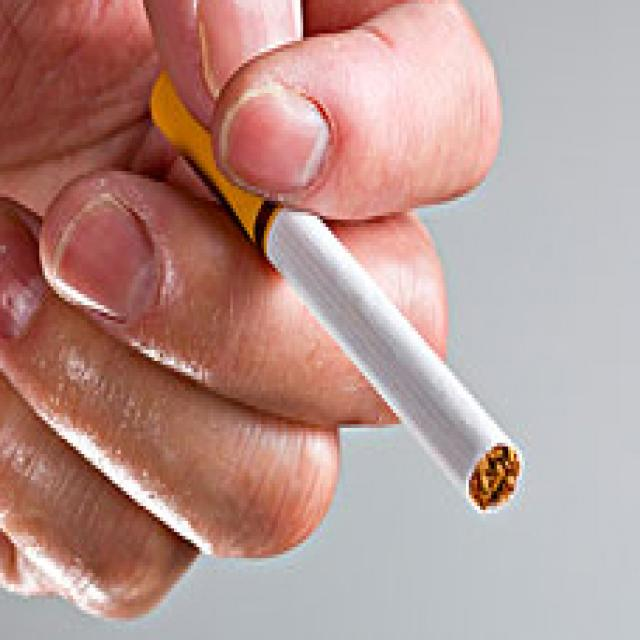smoking: (149, 68, 525, 513)
